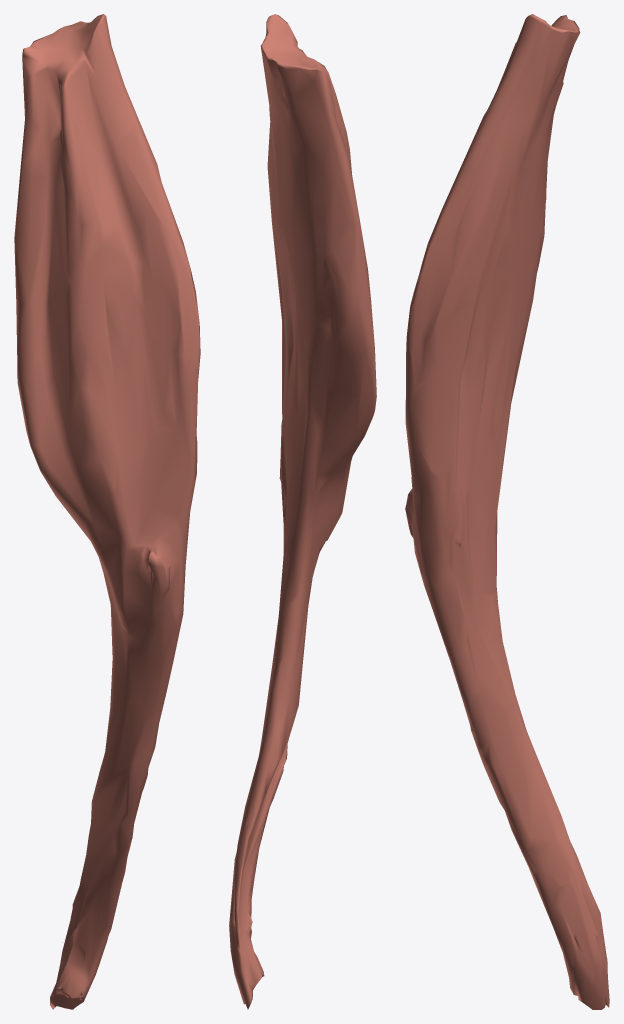
3 views of the same model, side by side, from view 1: azimuth 30°, elevation 25°; view 2: azimuth 150°, elevation 25°; view 3: azimuth 270°, elevation 25° (orthographic). The views are drawn at different scales.
Visible parts, largest first — view 1: 右侧踇展肌; view 2: 右侧踇展肌; view 3: 右侧踇展肌.
Boxes of the visible parts, x1,y1,x2,y2 form: 右侧踇展肌: (14,14,200,1009); 右侧踇展肌: (229,14,376,1009); 右侧踇展肌: (405,14,609,1009).
Bounding box in the file's own units: 0.0301 × 0.214 × 0.0397.
